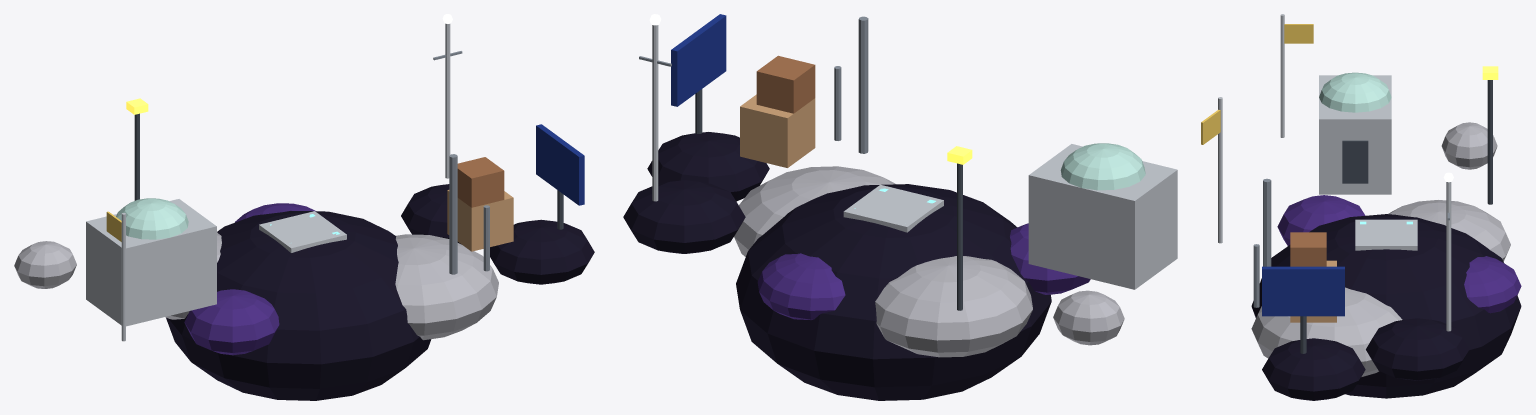
The model's file is site_black_hole.glb.
3 renders of one model, left to right at view 1: azimuth 30°, elevation 25°; view 2: azimuth 150°, elevation 25°; view 3: azimuth 270°, elevation 25°, orthographic. The views are drawn at different scales.
Visible parts, largest first — view 1: site_black_hole; view 2: site_black_hole; view 3: site_black_hole.
Boxes of the visible parts, <box> form: site_black_hole: <box>14,14,594,400</box>; site_black_hole: <box>623,14,1222,400</box>; site_black_hole: <box>1251,14,1521,400</box>.
Size of the model in its own units: 10.5 by 6.17 by 5.2.
